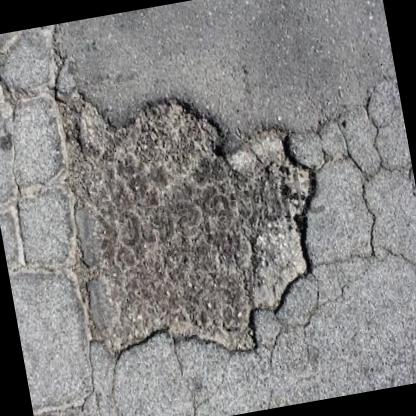pothole: (47, 65, 347, 381)
